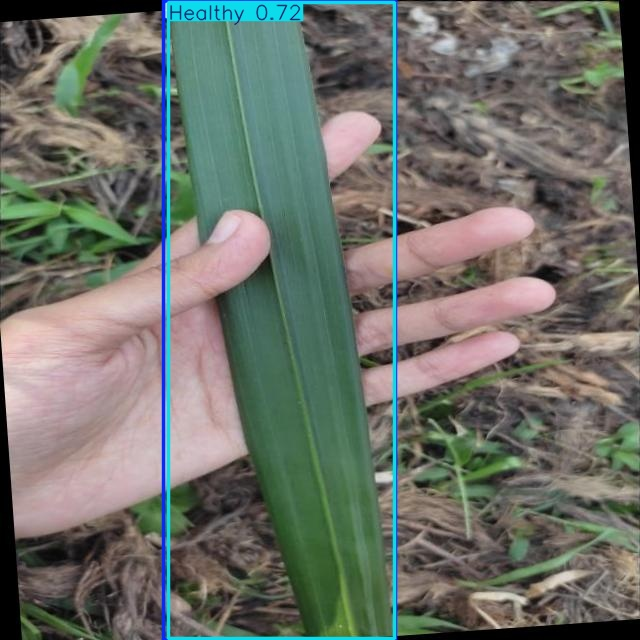Boron: (163, 0, 395, 640)
Healthy: (168, 3, 395, 638)
